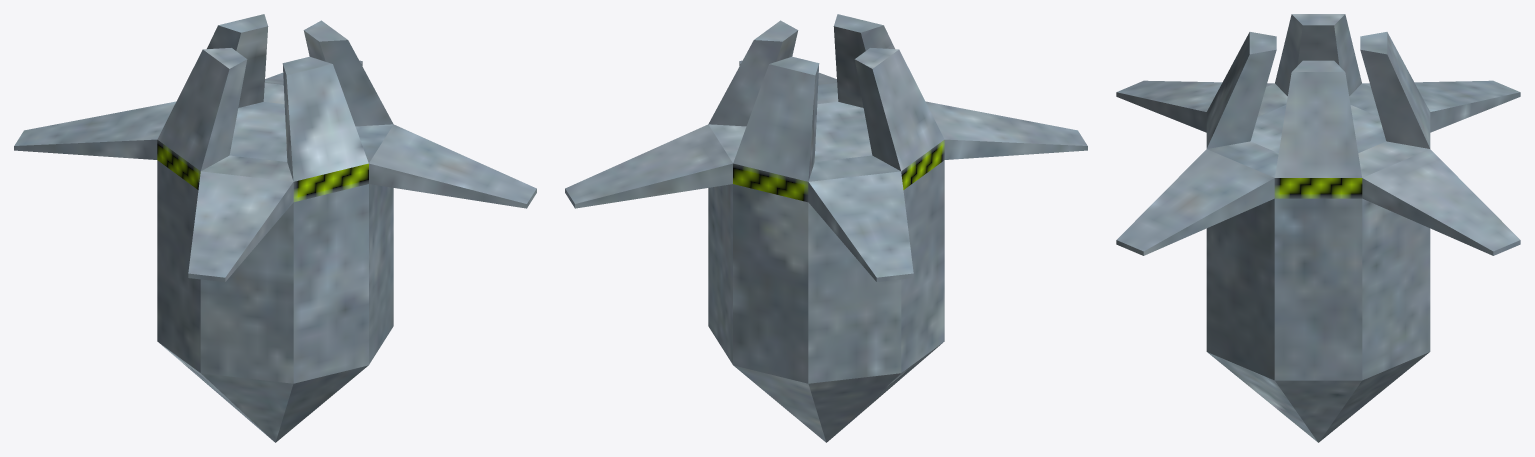
File: DropPod.fbx
The picture shows the model from 3 angles, left to right: view 1: azimuth 30°, elevation 25°; view 2: azimuth 150°, elevation 25°; view 3: azimuth 270°, elevation 25°; orthographic projection.
Parts seen in each view (by area): view 1: DropPodMesh; view 2: DropPodMesh; view 3: DropPodMesh.
Boxes of the visible parts, x1,y1,x2,y2 form: DropPodMesh: [14, 14, 536, 442]; DropPodMesh: [565, 14, 1087, 442]; DropPodMesh: [1116, 14, 1520, 442].
Size of the model in its own units: 5.42 by 5.92 by 5.42.
1 material, 1 textured.
